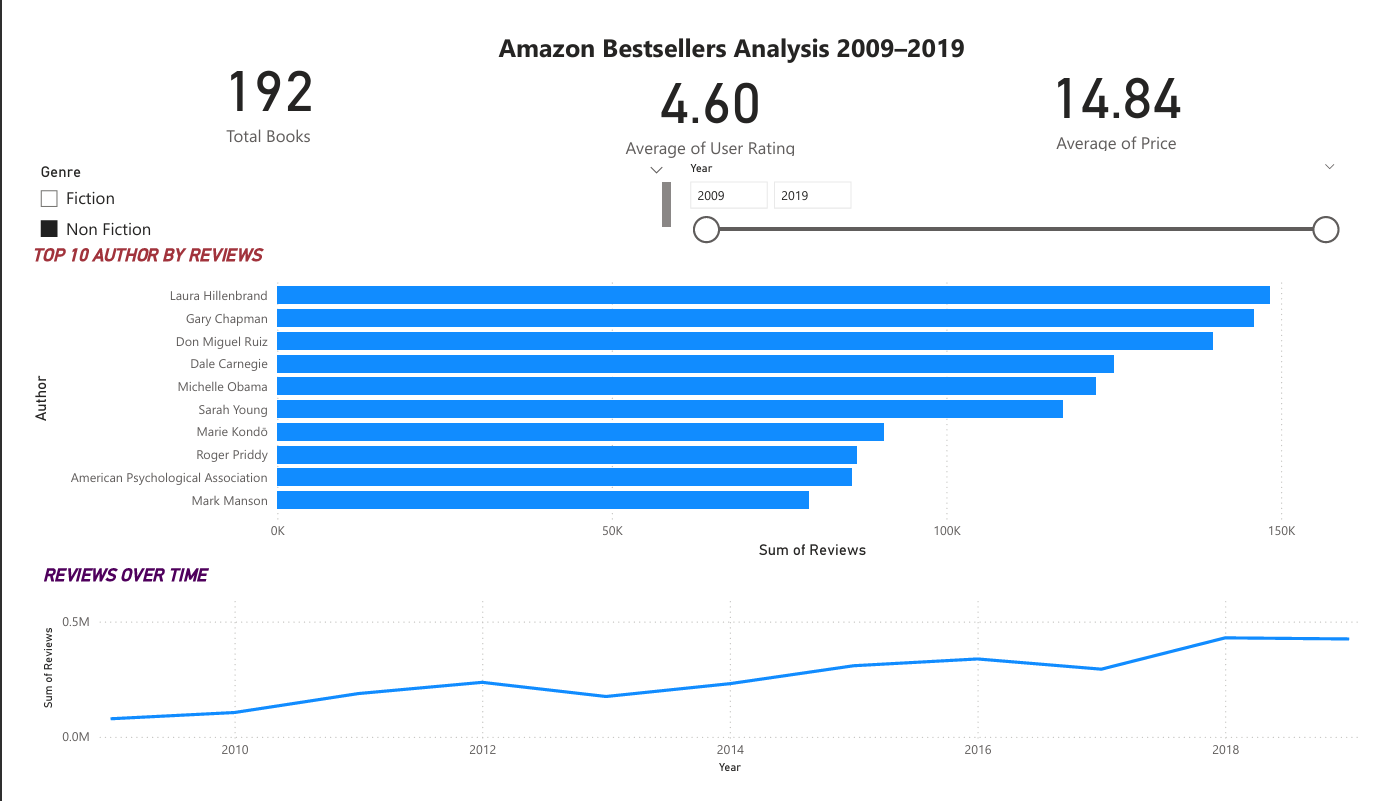

Layout of this report page (visuals, bound fields, positions):
{"tool":"powerbi","page":{"name":"Page 1","canvas":[1280,720],"ordinal":0},"visuals":[{"type":"clusteredBarChart","title":"TOP 10 AUTHOR BY REVIEWS","fields":{"Category":["bestsellers with categories.Author"],"Y":["Sum(bestsellers with categories.Reviews)"]},"box":[0,209.9,1280.3,304.6],"z":0},{"type":"lineChart","title":"REVIEWS OVER TIME","fields":{"Category":["bestsellers with categories.Year"],"Y":["Sum(bestsellers with categories.Reviews)"]},"box":[9.6,514.6,1270.7,205.8],"z":1000},{"type":"card","fields":{"Values":["Count(bestsellers with categories.Reviews)"]},"box":[0,6.9,461.1,120.8],"z":2000},{"type":"card","fields":{"Values":["Avg(bestsellers with categories.User Rating)"]},"box":[444.6,23.3,415.8,112.5],"z":3000},{"type":"card","fields":{"Values":["Avg(bestsellers with categories.Price)"]},"box":[800,23.3,480.3,102.9],"z":4000},{"type":"slicer","fields":{"Values":["bestsellers with categories.Genre"]},"box":[0,127.6,620.2,82.3],"z":5000},{"type":"slicer","fields":{"Values":["bestsellers with categories.Year"]},"box":[620.2,126.2,640.8,104.3],"z":6000},{"type":"textbox","box":[444.6,0,487.1,45.3],"z":6001}]}

Visuals, with their boxes in screenshot pixels (x1, y1, x2, y2), scaled from the page's 1280x720 canvas onto the 1387x801 screenshot:
"TOP 10 AUTHOR BY REVIEWS" clusteredBarChart: (left=0, top=234, right=1386, bottom=572)
"REVIEWS OVER TIME" lineChart: (left=10, top=572, right=1386, bottom=800)
card - Count(bestsellers with categories.Reviews): (left=0, top=8, right=500, bottom=142)
card - Avg(bestsellers with categories.User Rating): (left=482, top=26, right=932, bottom=151)
card - Avg(bestsellers with categories.Price): (left=867, top=26, right=1386, bottom=140)
slicer - bestsellers with categories.Genre: (left=0, top=142, right=672, bottom=234)
slicer - bestsellers with categories.Year: (left=672, top=140, right=1366, bottom=256)
textbox: (left=482, top=0, right=1010, bottom=50)
